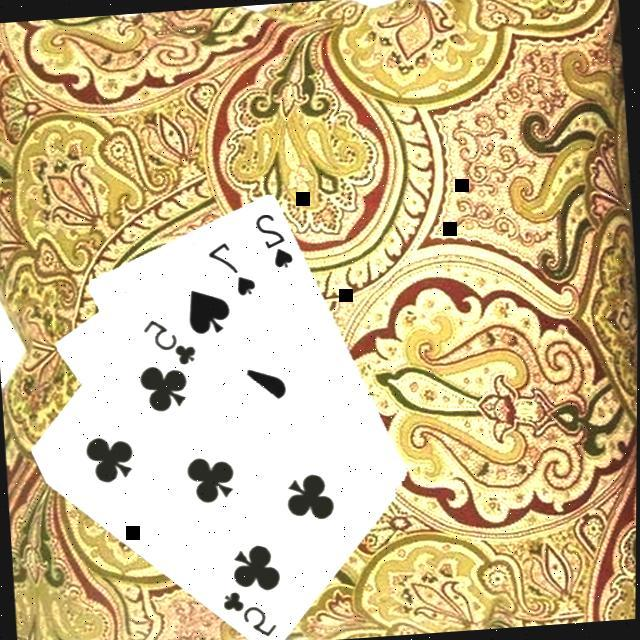2S: (250, 205, 296, 272)
5C: (137, 310, 199, 369), (217, 582, 279, 640)
7S: (202, 234, 258, 299)
